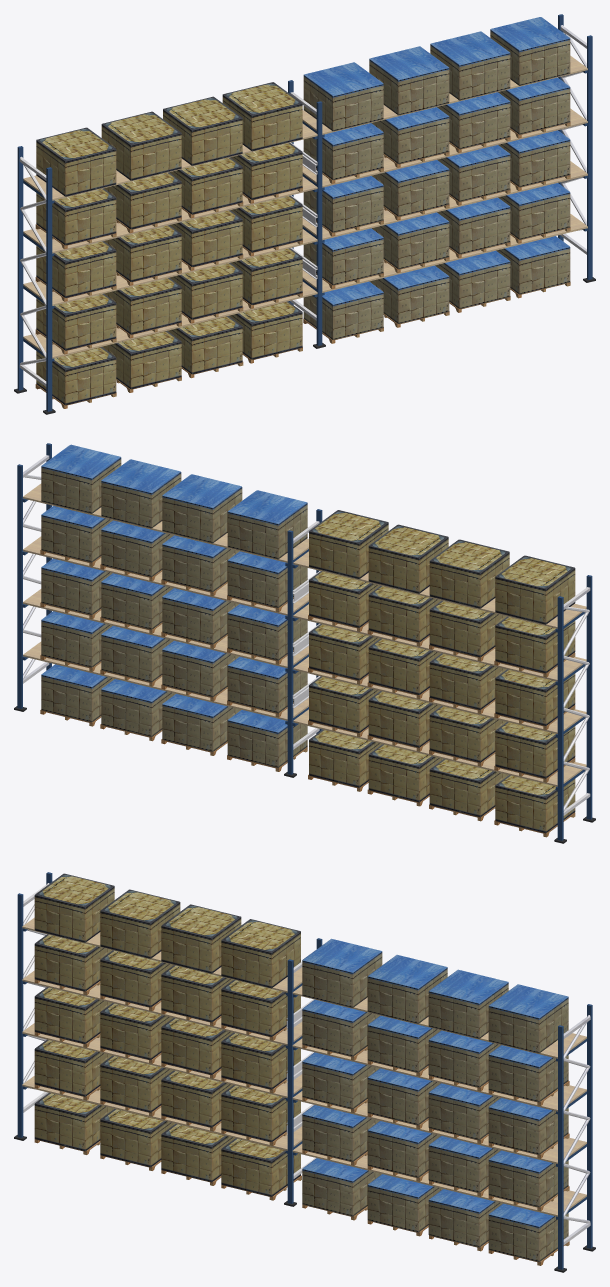
File: BigLogistics.glb
3 views of the same model, one above another, from view 1: azimuth 30°, elevation 25°; view 2: azimuth 150°, elevation 25°; view 3: azimuth 330°, elevation 25° (orthographic).
Visible parts, largest first — view 1: Box_Pallet02, Box_Pallet01, BigShelves01, BigShelvesWoodBox; view 2: Box_Pallet02, Box_Pallet01, BigShelves01, BigShelvesWoodBox; view 3: Box_Pallet01, Box_Pallet02, BigShelves01, BigShelvesWoodBox.
Part boxes in pixels (bbox=[...]): Box_Pallet02: bbox=[36, 82, 302, 405]; Box_Pallet01: bbox=[303, 17, 570, 339]; BigShelves01: bbox=[14, 14, 595, 414]; BigShelvesWoodBox: bbox=[35, 122, 570, 408]; Box_Pallet02: bbox=[309, 510, 575, 833]; Box_Pallet01: bbox=[41, 444, 307, 767]; BigShelves01: bbox=[14, 443, 595, 843]; BigShelvesWoodBox: bbox=[40, 549, 575, 837]; Box_Pallet01: bbox=[302, 938, 568, 1261]; Box_Pallet02: bbox=[34, 873, 300, 1196]; BigShelves01: bbox=[14, 872, 595, 1272]; BigShelvesWoodBox: bbox=[34, 979, 569, 1265].
Size of the model in its own units: 17.75 by 7.66 by 1.82.
Materials: 7 (7 with a texture image).
